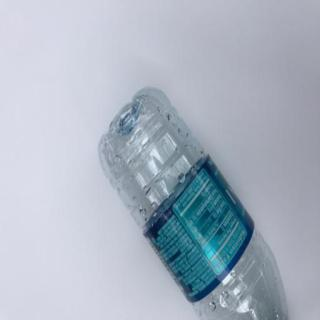Plastic-bottle: (97, 87, 291, 320)
